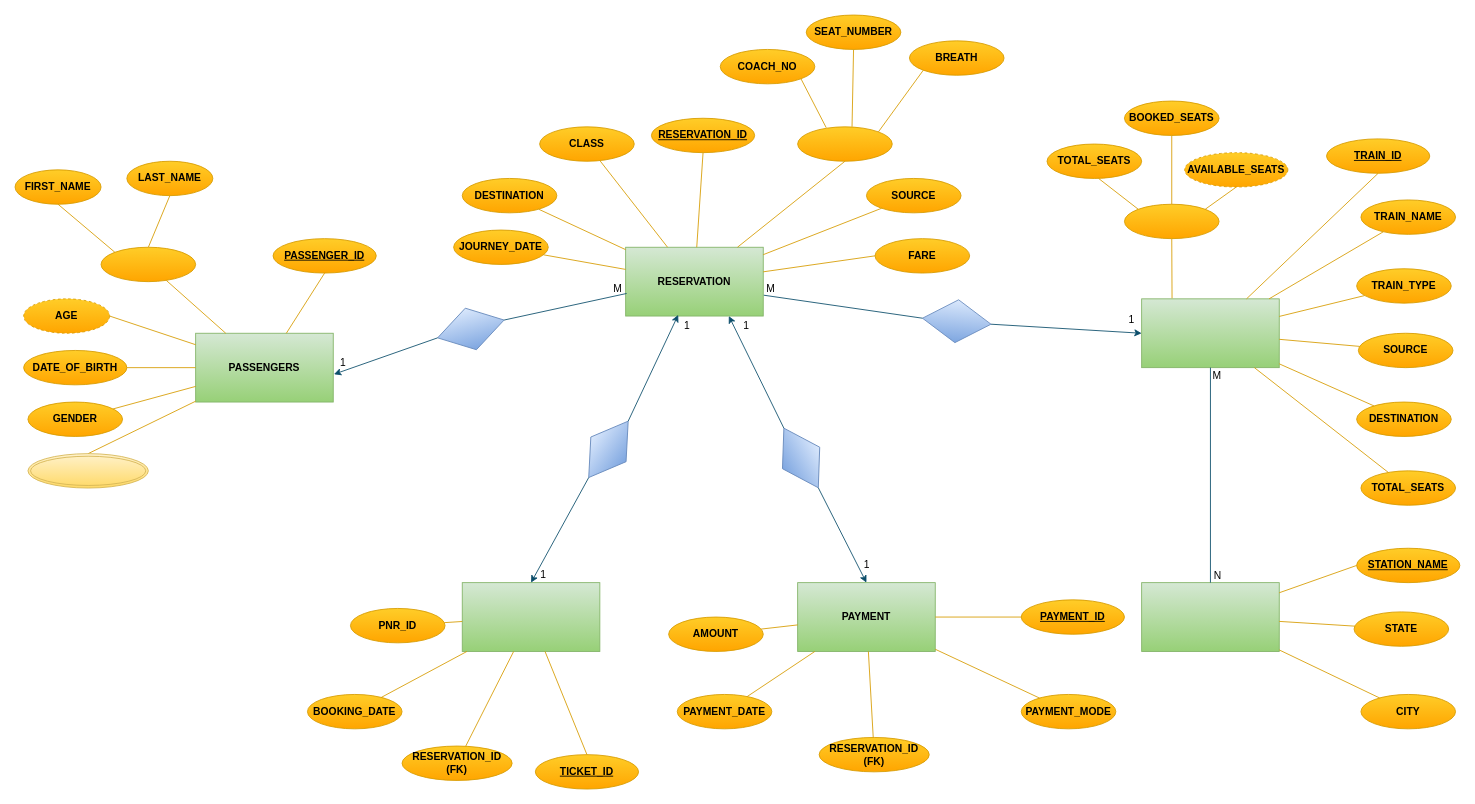
This 1475x804 diagram has some shape labels left out. Each missing label, with the centre of its shape:
FOR: [956,321]
GENERATES: [800,457]
HAS: [608,449]
MAKE: [470,328]
NAME: [148,264]
PHONE_NO: [87,470]
SEAT_ID: [844,143]
SEATS: [1171,221]
STATION: [1210,616]
TICKET: [530,616]
TRAIN: [1210,333]
